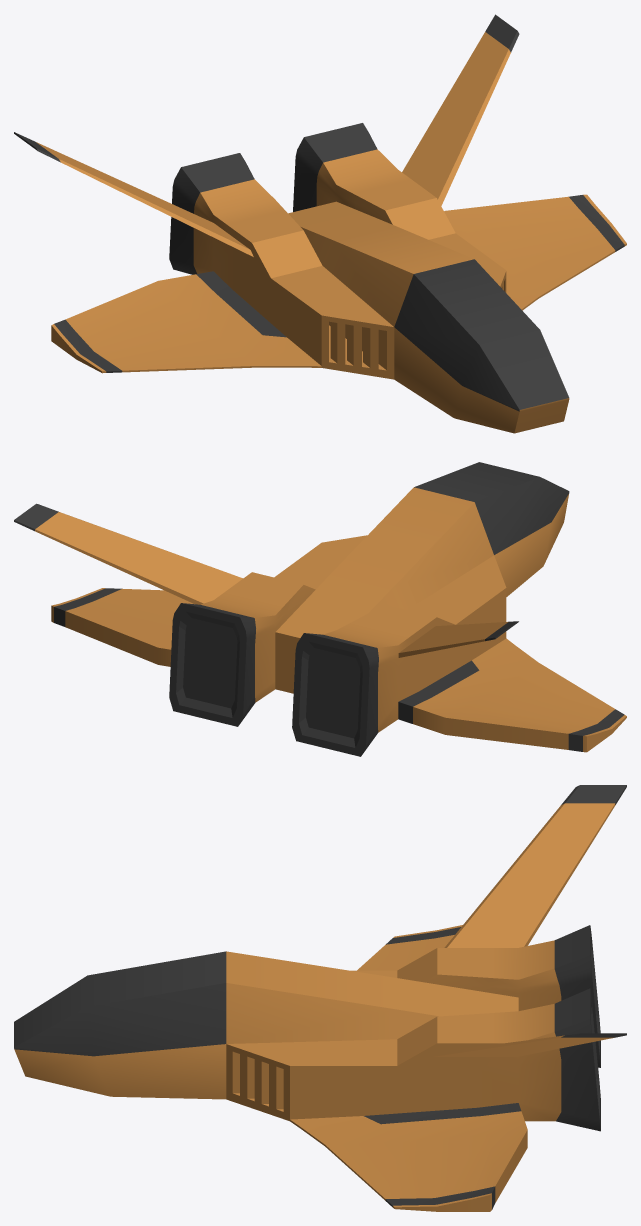
Rendered from OriginalShip_REN.fbx.
The picture shows the model from 3 angles, top to bottom: view 1: azimuth 30°, elevation 25°; view 2: azimuth 150°, elevation 25°; view 3: azimuth 270°, elevation 25°; orthographic projection. The views are drawn at different scales.
Parts seen in each view (by area): view 1: OriginalShip_REN; view 2: OriginalShip_REN; view 3: OriginalShip_REN.
Part boxes in pixels (x1,y1,x2,y2): OriginalShip_REN: (14, 14, 626, 433); OriginalShip_REN: (14, 462, 626, 756); OriginalShip_REN: (14, 785, 626, 1211).
Bounding box in the file's own units: 8.78 × 2.58 × 8.23.
